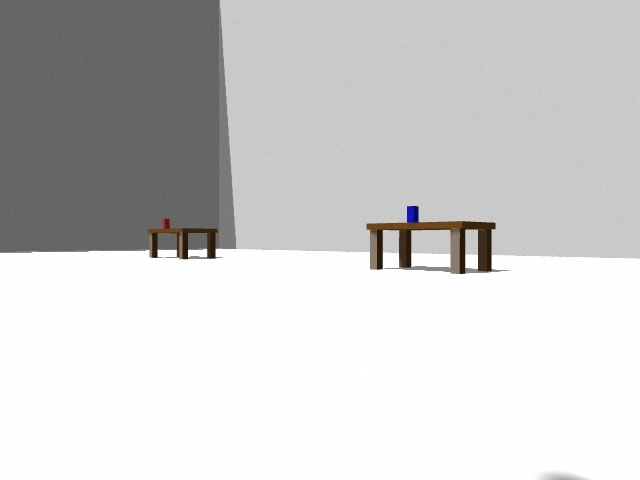blue_cube: (407, 206, 418, 223)
